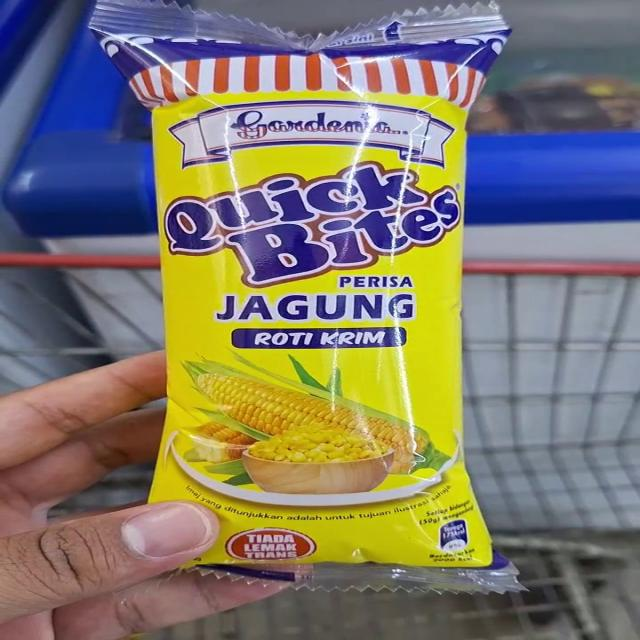Roti: (76, 0, 544, 608)
